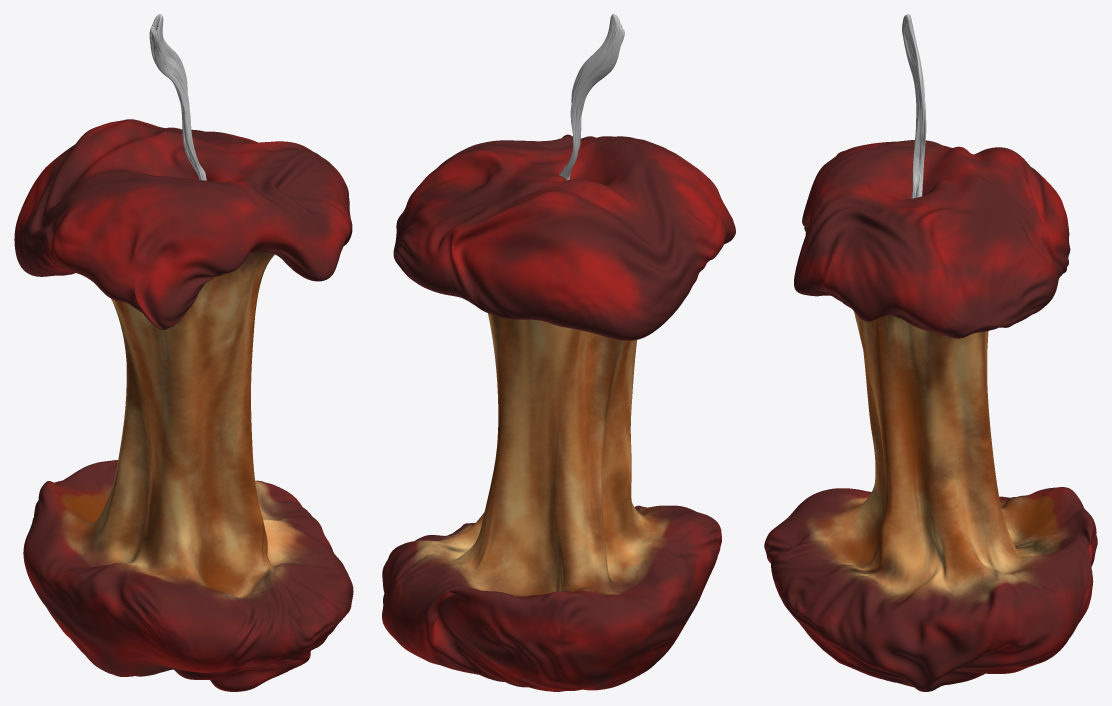
Rendered from apple.fbx.
The picture shows the model from 3 angles, left to right: view 1: azimuth 30°, elevation 25°; view 2: azimuth 150°, elevation 25°; view 3: azimuth 270°, elevation 25°; orthographic projection. The views are drawn at different scales.
Visible parts, largest first — view 1: Cube.002, Sphere.001; view 2: Cube.002, Sphere.001; view 3: Cube.002, Sphere.001.
Part boxes in pixels (x1,y1,x2,y2): Cube.002: (14,119,353,691); Sphere.001: (149,14,206,180); Cube.002: (382,134,735,691); Sphere.001: (559,14,624,180); Cube.002: (764,140,1097,691); Sphere.001: (902,14,926,198).
Size of the model in its own units: 21.07 by 45.36 by 21.69.
